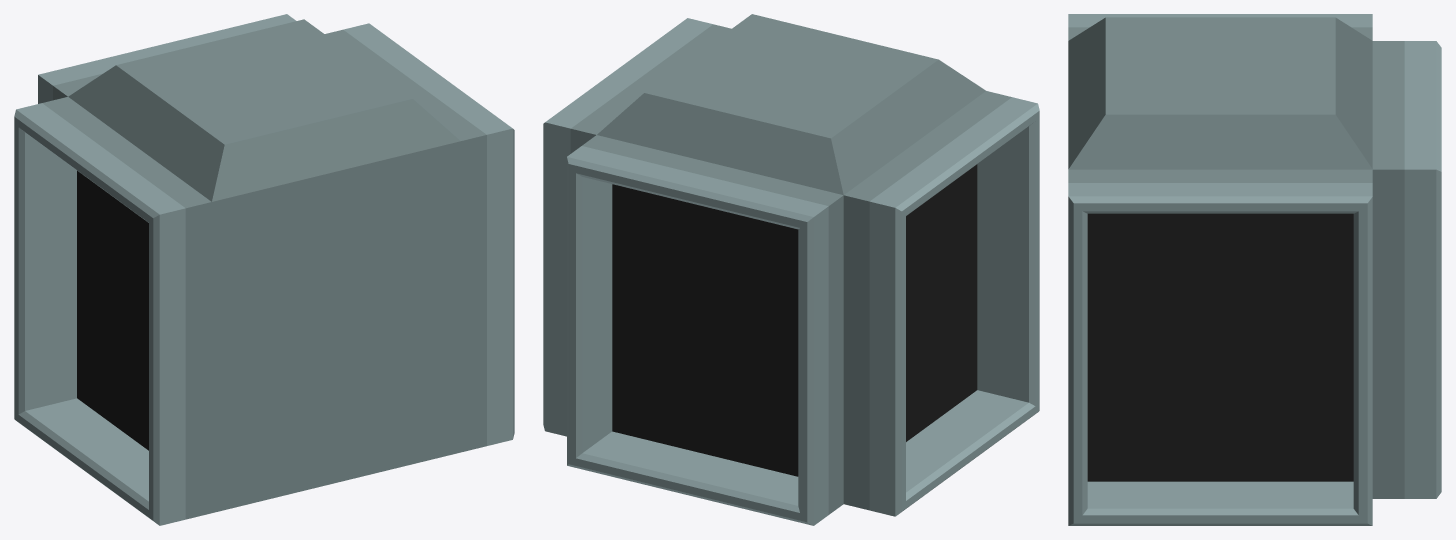
Rendered from mech_corner_2.fbx.
3 views of the same model, side by side, from view 1: azimuth 30°, elevation 25°; view 2: azimuth 150°, elevation 25°; view 3: azimuth 270°, elevation 25° (orthographic). The views are drawn at different scales.
Parts seen in each view (by area): view 1: mech_corner_2; view 2: mech_corner_2; view 3: mech_corner_2.
Boxes of the visible parts, x1=… form: mech_corner_2: x1=14, y1=14, x2=514, y2=525; mech_corner_2: x1=543, y1=14, x2=1039, y2=525; mech_corner_2: x1=1068, y1=14, x2=1441, y2=525.
Bounding box in the file's own units: 112 × 104 × 94.97.
